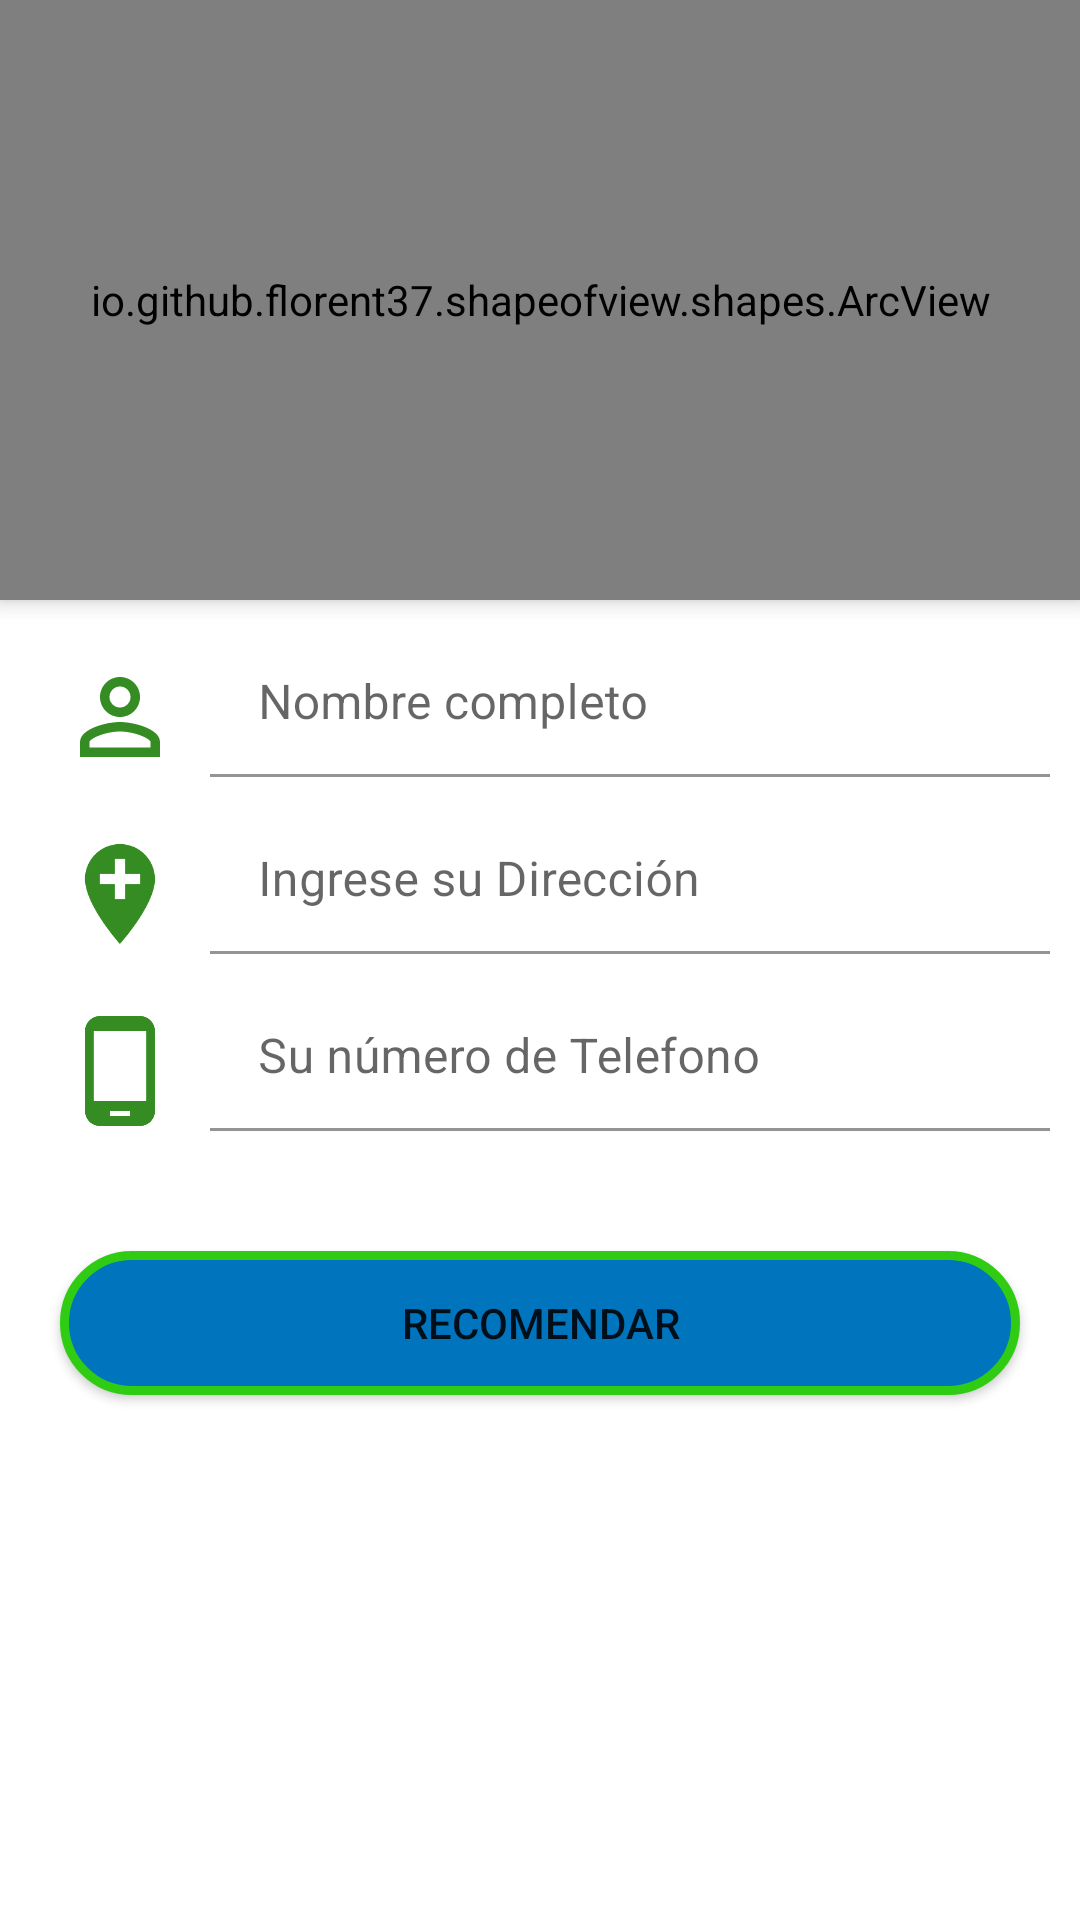

Where to tap for icons on this 1080×1920 app screen, as (x=x, y=y):
direccion: (x=120, y=894)
phone: (x=120, y=1071)
user: (x=120, y=717)
